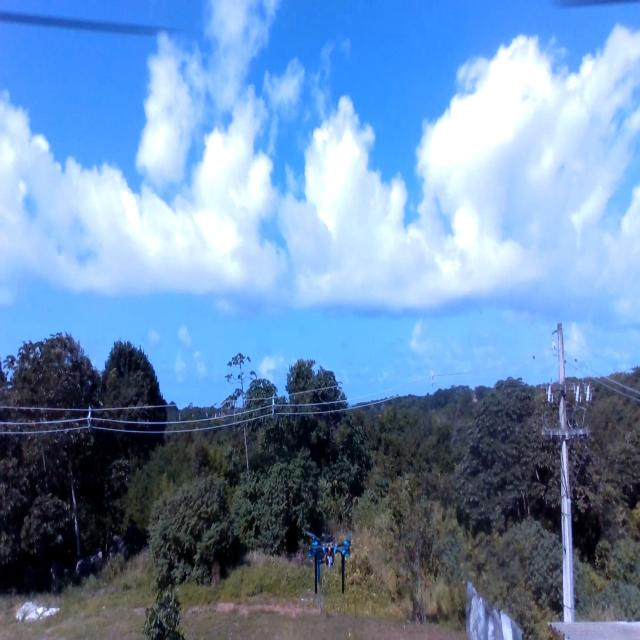-uav-: (300, 528, 358, 602)
